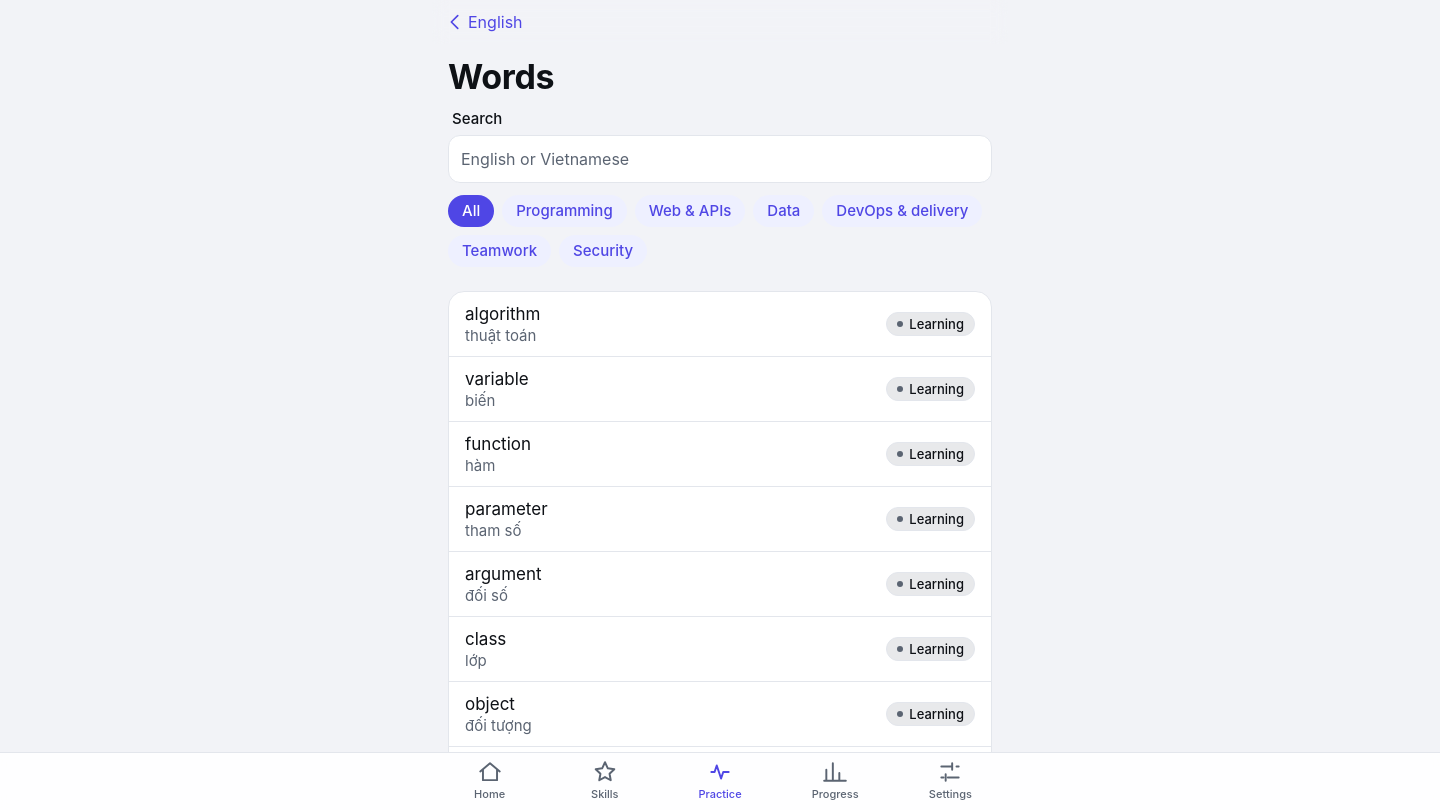
Test case: Words › searches in English and Vietnamese and filters by topic
Type "thuật toán" into the search field labelled "Search". click: coordinates (720, 159)
box: [448,135,992,183]
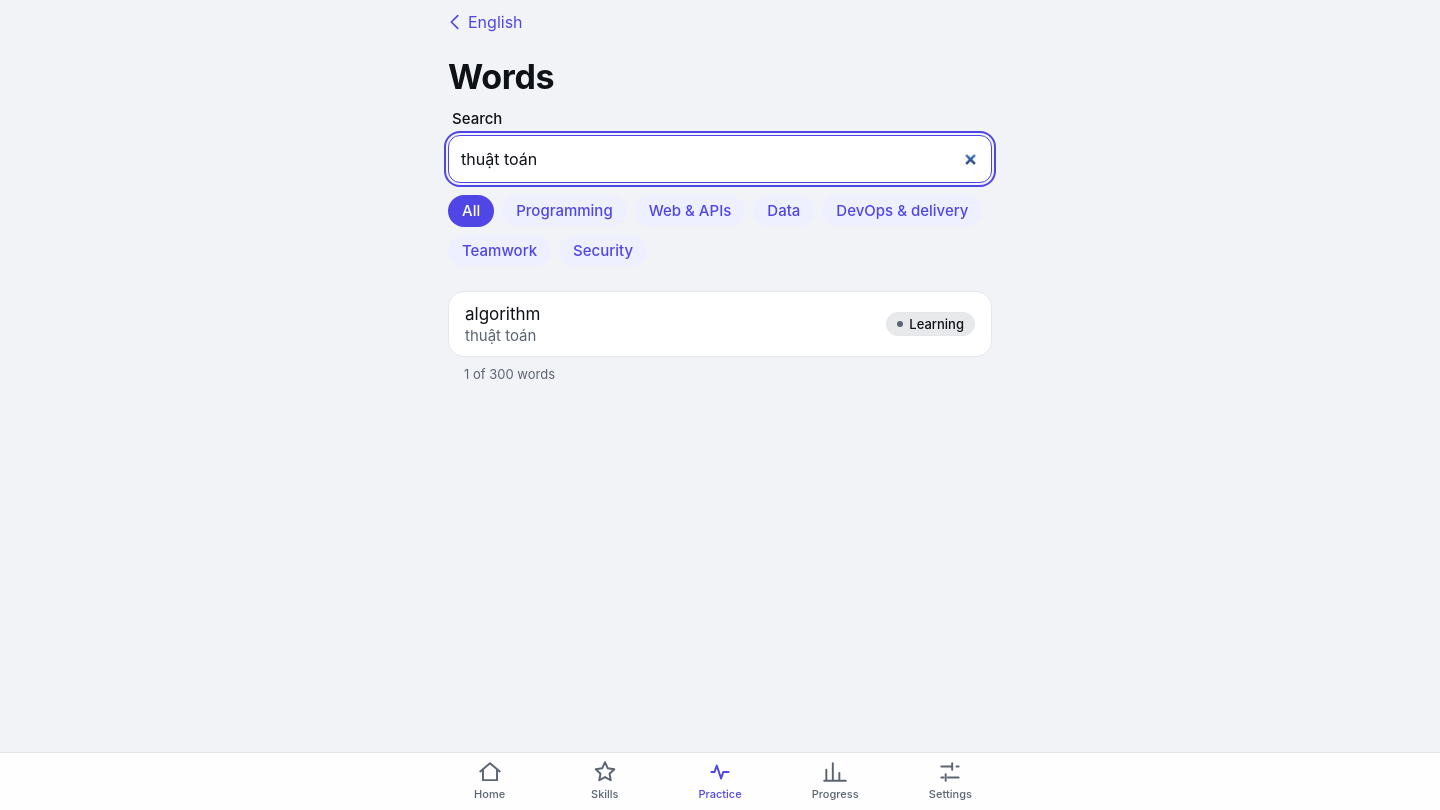
Expected: the text "algorithm" is shown, [465,304,540,324]
Clear the search field labelled "Search". click: coordinates (720, 159)
box: [448,135,992,183]
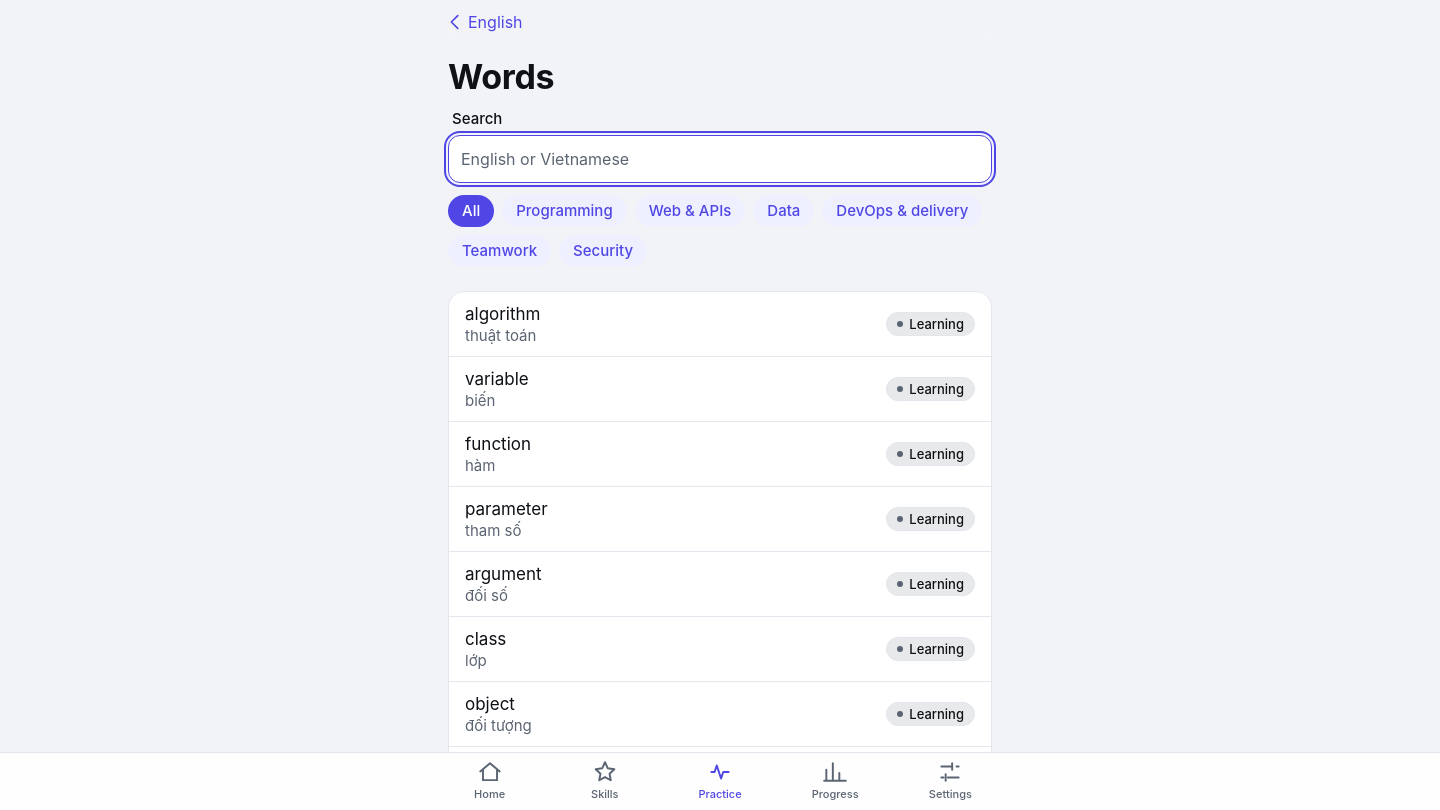
Click the button "Security". click: coordinates (603, 251)
box: [559,235,647,267]
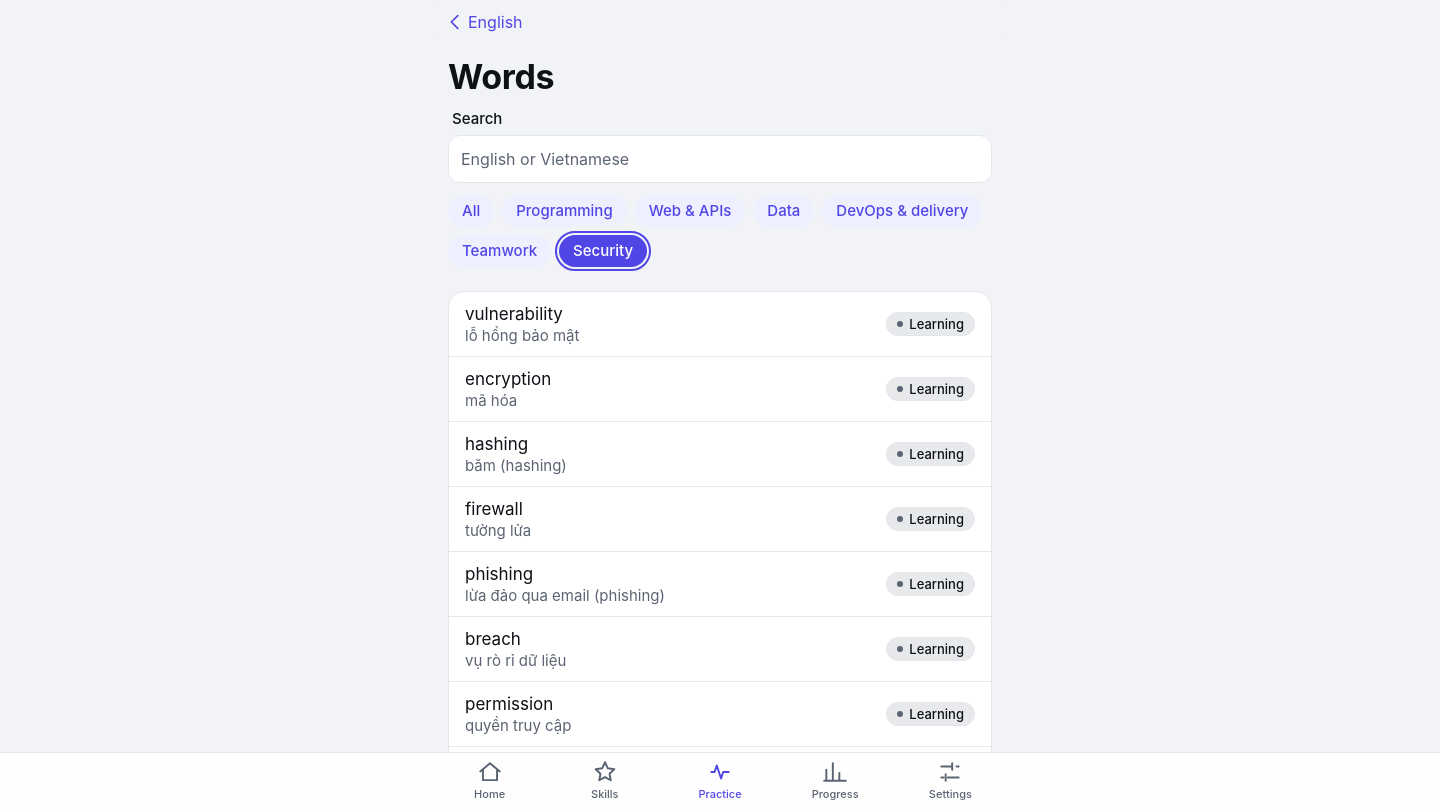
Expected: the text "phishing" is shown, [465,564,533,584]
Expected: the button "algorithm" is gone
